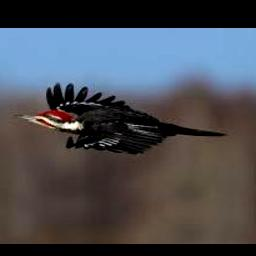Woodpecker: (12, 82, 226, 155)
